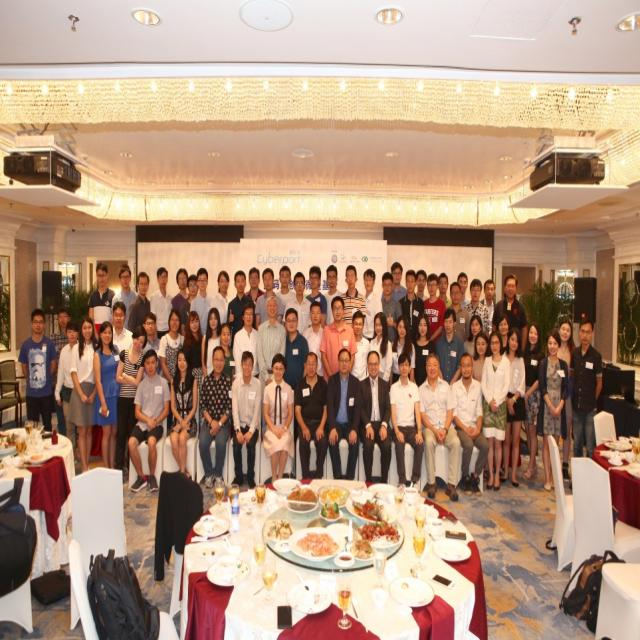body: (416, 350, 462, 502), (126, 346, 170, 493), (568, 317, 604, 491), (449, 350, 490, 498), (534, 328, 568, 492), (325, 346, 362, 490), (387, 351, 424, 494), (66, 315, 99, 475), (198, 344, 234, 490), (114, 323, 149, 471), (16, 307, 56, 434), (294, 350, 329, 490), (480, 329, 510, 491), (255, 294, 287, 443), (228, 349, 262, 489), (92, 319, 122, 472), (359, 349, 391, 484), (168, 346, 198, 488), (262, 352, 294, 485), (500, 325, 526, 488), (54, 319, 80, 466), (552, 318, 575, 483), (318, 295, 358, 386), (158, 306, 186, 431), (522, 321, 543, 481), (490, 272, 529, 357), (50, 306, 73, 439), (85, 261, 116, 347), (436, 307, 468, 386), (226, 268, 256, 350), (282, 306, 310, 391), (388, 312, 417, 389), (232, 301, 260, 380), (398, 268, 426, 345), (253, 267, 286, 332), (280, 270, 313, 335), (338, 264, 368, 331), (301, 300, 326, 379), (110, 262, 138, 331), (149, 265, 175, 339), (412, 311, 437, 387), (368, 311, 394, 384), (360, 266, 384, 344), (200, 306, 222, 391), (423, 271, 447, 346), (189, 267, 215, 336), (126, 270, 152, 336), (464, 277, 491, 340), (137, 310, 162, 376), (110, 300, 135, 364), (447, 280, 471, 344), (380, 271, 401, 344), (305, 265, 328, 331), (474, 278, 498, 340), (321, 263, 344, 326), (350, 309, 370, 381), (178, 272, 199, 338), (181, 310, 204, 369), (210, 269, 232, 325), (380, 261, 408, 303), (470, 329, 490, 383), (171, 267, 192, 317), (462, 313, 484, 360), (218, 321, 235, 380), (274, 264, 298, 304), (244, 266, 266, 305), (495, 312, 512, 357), (438, 271, 453, 311), (457, 271, 472, 309), (414, 268, 430, 303)
